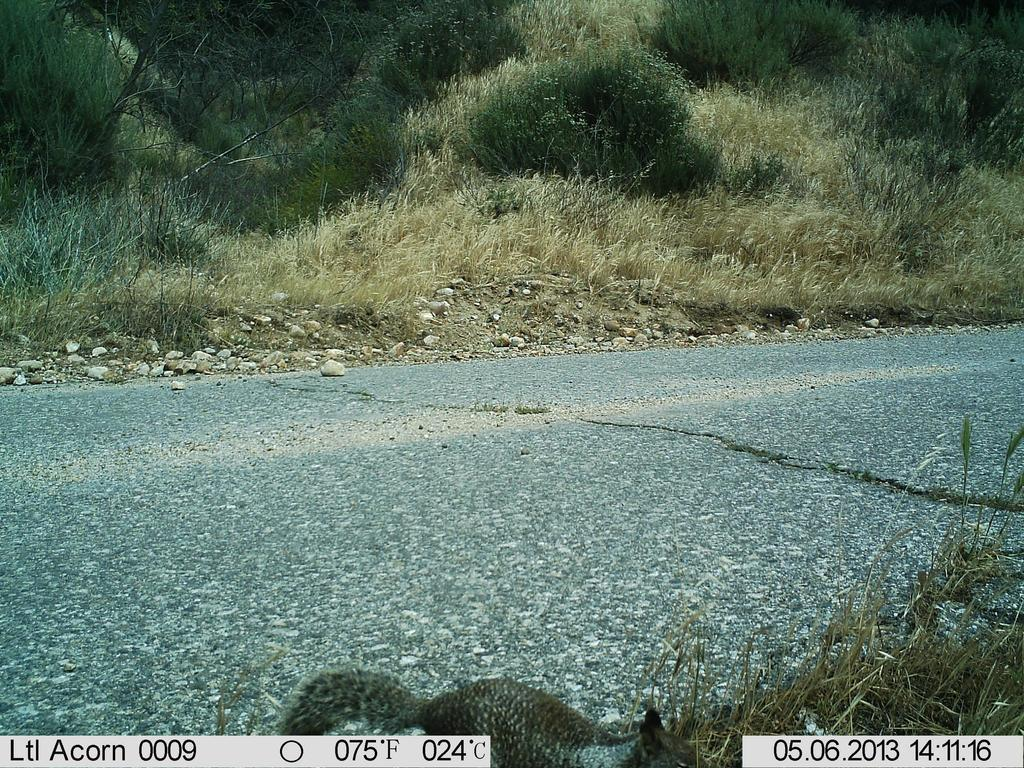squirrel: (279, 665, 708, 767)
